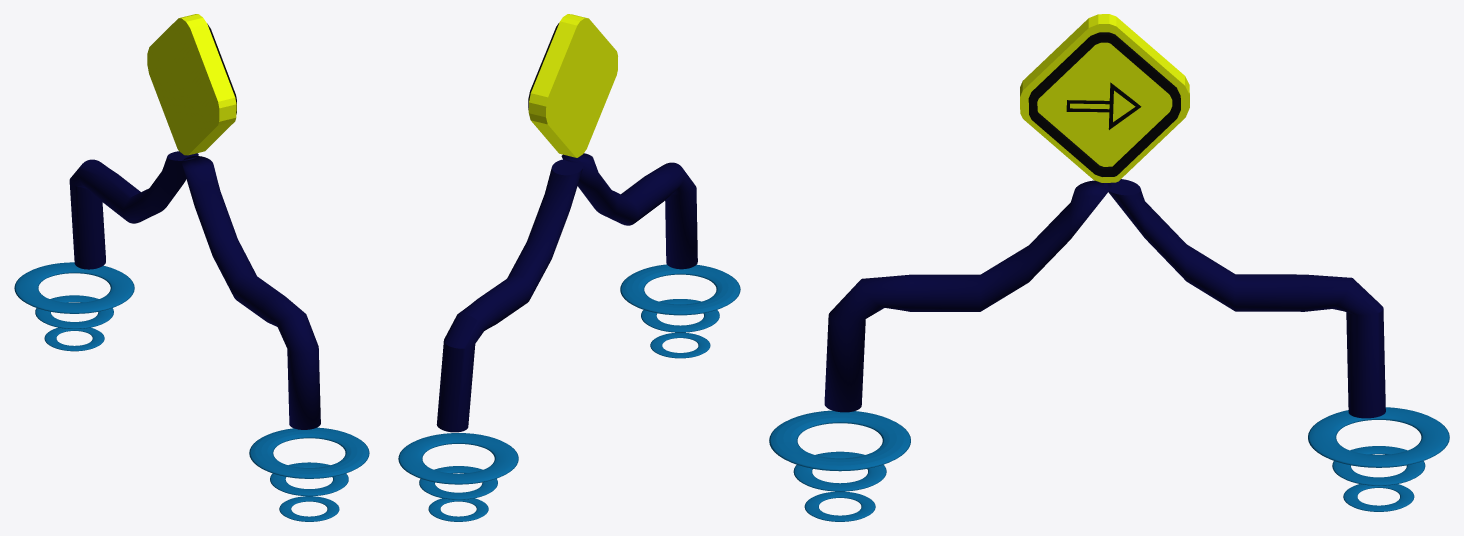
File: placa curva a direita.fbx
3 views of the same model, side by side, from view 1: azimuth 30°, elevation 25°; view 2: azimuth 150°, elevation 25°; view 3: azimuth 270°, elevation 25° (orthographic). The views are drawn at different scales.
Visible parts, largest first — view 1: Cylinder.001, Cube, Cylinder, Torus.001, Torus.005, Torus.004, Torus.002, Torus.006, Torus.003; view 2: Cylinder, Cube, Cylinder.001, Torus.005, Torus.001, Torus.004, Torus.002, Torus.006, Torus.003; view 3: Cube, Cylinder, Cylinder.001, Torus.001, Cube.003, Torus.005, Torus.004, Torus.002, Torus.006, Torus.003.
Part boxes in pixels (x1=…): Cylinder.001: x1=182, y1=156, x2=320, y2=429; Cube: x1=147, y1=14, x2=236, y2=155; Cylinder: x1=69, y1=151, x2=198, y2=269; Torus.001: x1=249, y1=427, x2=369, y2=478; Torus.005: x1=14, y1=262, x2=134, y2=313; Torus.004: x1=35, y1=295, x2=113, y2=328; Torus.002: x1=270, y1=462, x2=348, y2=496; Torus.006: x1=279, y1=496, x2=339, y2=521; Torus.003: x1=44, y1=327, x2=104, y2=351; Cylinder: x1=436, y1=158, x2=583, y2=432; Cube: x1=528, y1=14, x2=617, y2=157; Cylinder.001: x1=561, y1=153, x2=697, y2=269; Torus.005: x1=398, y1=433, x2=518, y2=484; Torus.001: x1=620, y1=264, x2=740, y2=315; Torus.004: x1=419, y1=466, x2=497, y2=499; Torus.002: x1=641, y1=299, x2=719, y2=332; Torus.006: x1=650, y1=332, x2=710, y2=358; Torus.003: x1=428, y1=498, x2=488, y2=521; Cube: x1=1020, y1=14, x2=1189, y2=182; Cylinder: x1=1104, y1=179, x2=1385, y2=418; Cylinder.001: x1=824, y1=180, x2=1111, y2=412; Torus.001: x1=769, y1=410, x2=910, y2=471; Cube.003: x1=1028, y1=32, x2=1180, y2=176; Torus.005: x1=1308, y1=407, x2=1449, y2=467; Torus.004: x1=1332, y1=446, x2=1425, y2=485; Torus.002: x1=793, y1=451, x2=886, y2=491; Torus.006: x1=804, y1=491, x2=875, y2=521; Torus.003: x1=1343, y1=484, x2=1414, y2=511.
Bounding box in the file's own units: 266 × 944 × 1198.
